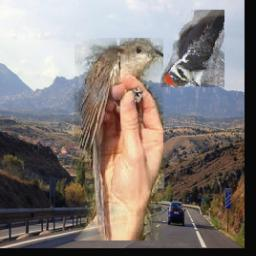Cuckoo: (75, 39, 164, 241)
Woodpecker: (161, 10, 225, 87)
